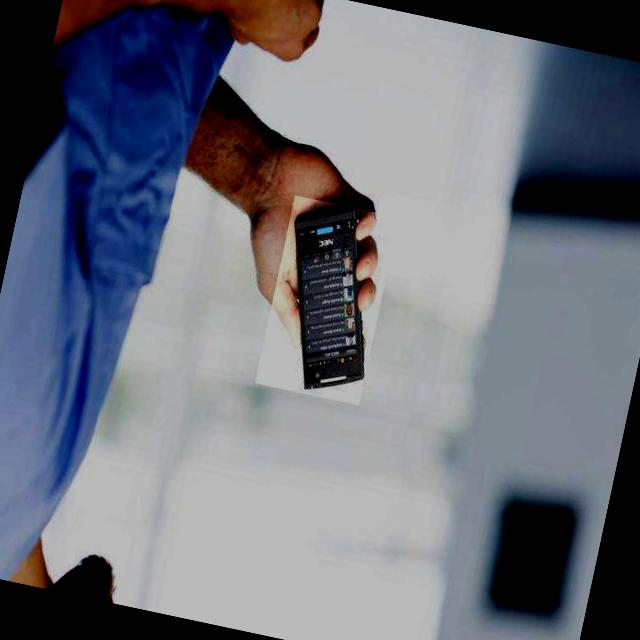phone: (253, 194, 397, 404)
